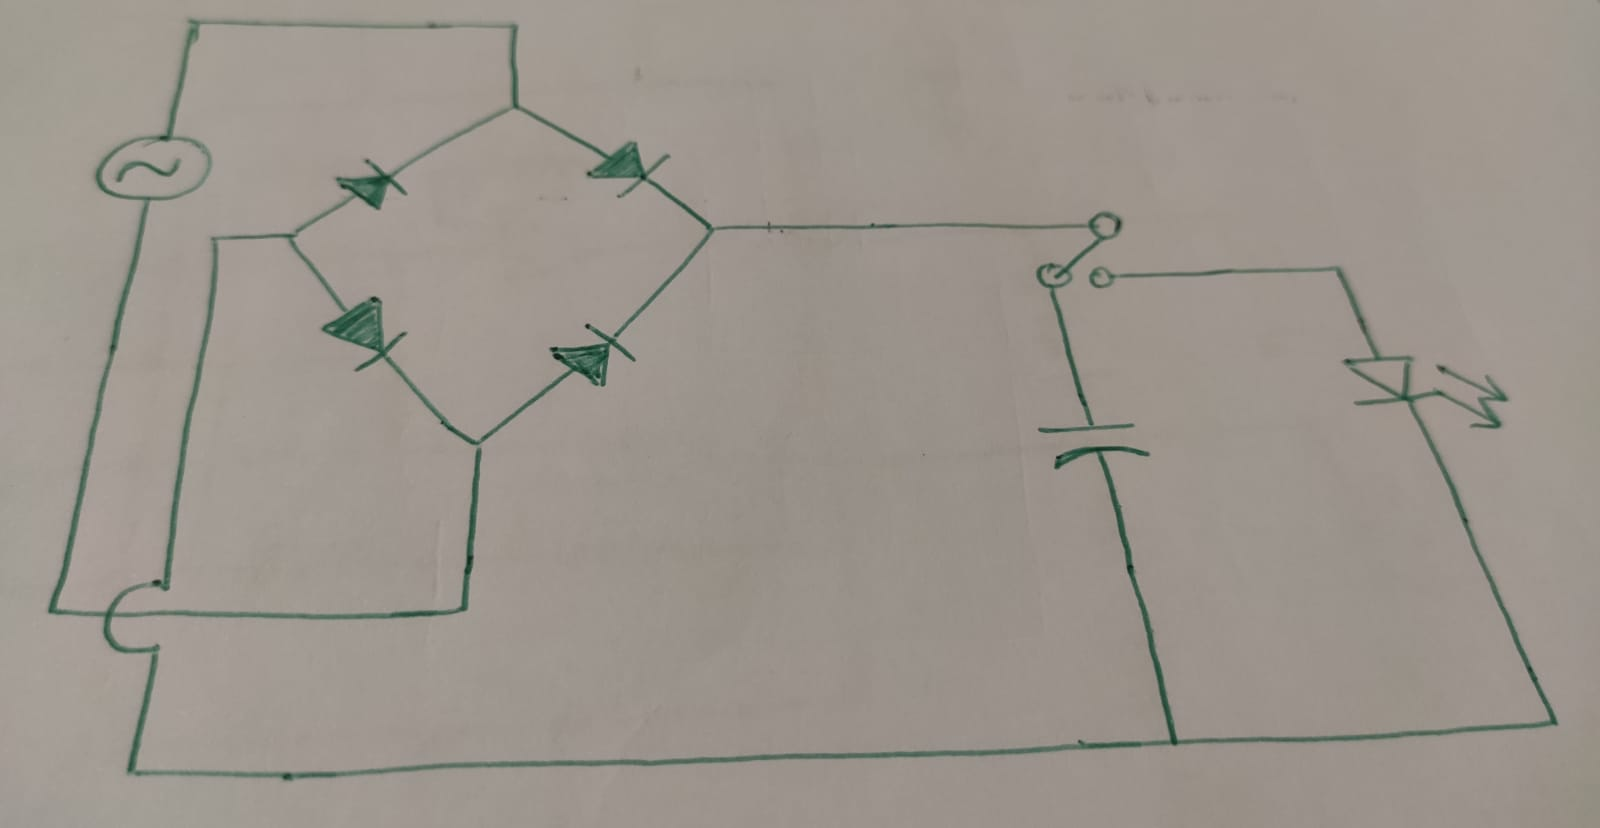capacitor.unpolarized: (1035, 418, 1153, 471)
crossover: (101, 575, 174, 657)
diode: (312, 291, 423, 377), (332, 146, 416, 218), (548, 323, 637, 388), (586, 138, 673, 199)
diode.light_emitting: (1343, 346, 1508, 431)
junction: (1157, 730, 1193, 757), (449, 597, 478, 624), (464, 431, 493, 458), (1541, 710, 1568, 736), (1325, 257, 1352, 282), (121, 758, 147, 784), (280, 226, 305, 251), (40, 598, 65, 623), (699, 219, 724, 243), (183, 14, 209, 36), (502, 18, 526, 41), (503, 98, 528, 120), (205, 231, 228, 255)
switch: (1033, 207, 1126, 293)
voltage.dc_ac: (93, 129, 215, 202)
